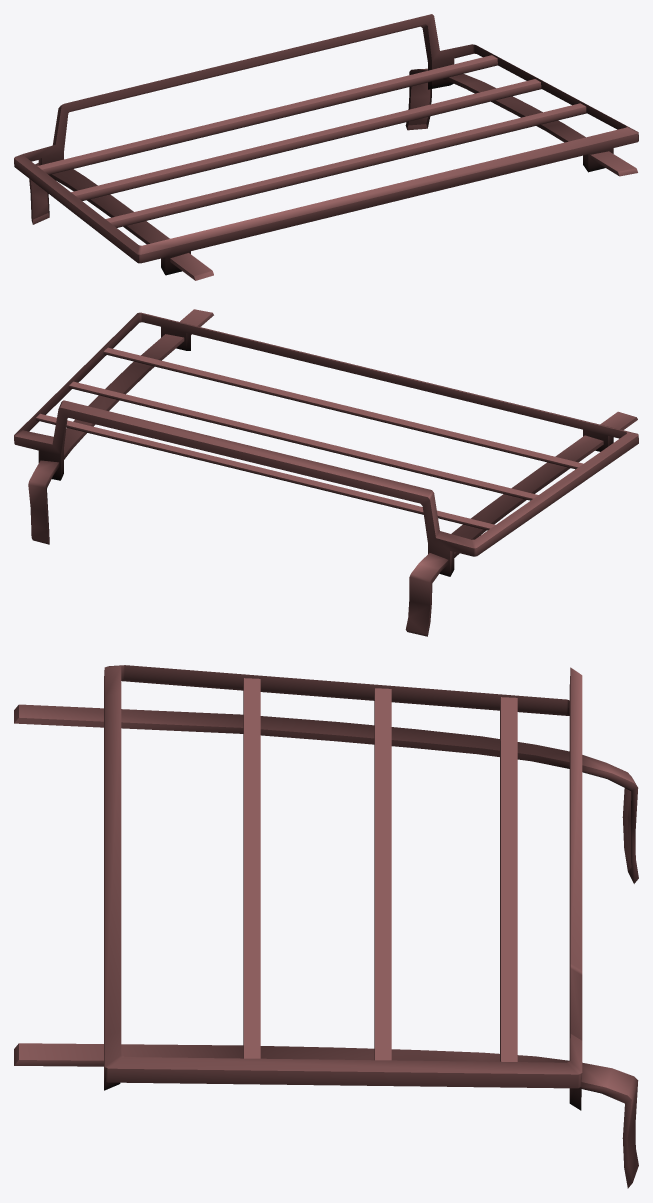
The model's file is MX5_Extra02_Trim.fbx.
The picture shows the model from 3 angles, top to bottom: view 1: azimuth 30°, elevation 25°; view 2: azimuth 150°, elevation 25°; view 3: azimuth 270°, elevation 25°; orthographic projection. The views are drawn at different scales.
Visible parts, largest first — view 1: MX5_Extra02_Trim; view 2: MX5_Extra02_Trim; view 3: MX5_Extra02_Trim.
Boxes of the visible parts, x1,y1,x2,y2 form: MX5_Extra02_Trim: (14,14,638,280); MX5_Extra02_Trim: (14,309,638,636); MX5_Extra02_Trim: (14,665,638,1188).
Bounding box in the file's own units: 83.83 × 20.89 × 55.01.
